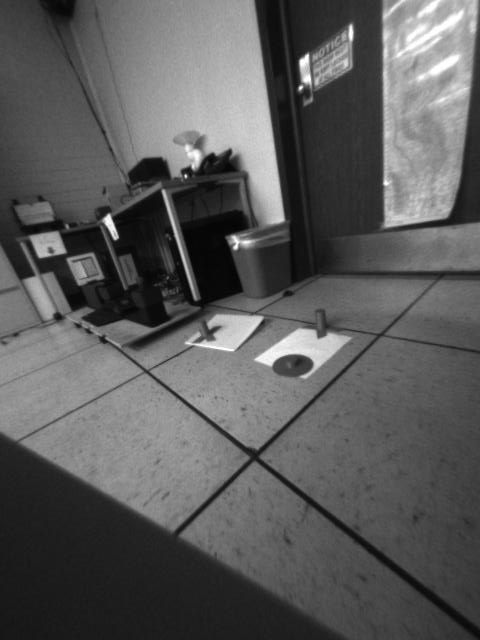X: (303, 308, 342, 341), (193, 318, 221, 345)
